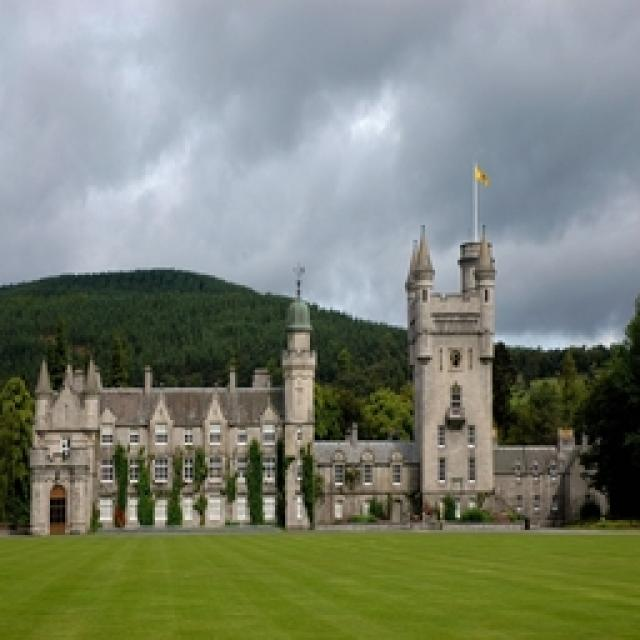Abbey: (21, 221, 606, 533)
